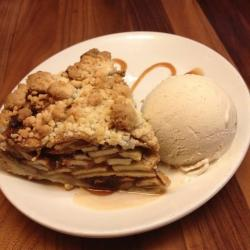apple_pie: (2, 46, 166, 205)
icecream: (136, 69, 243, 181)
